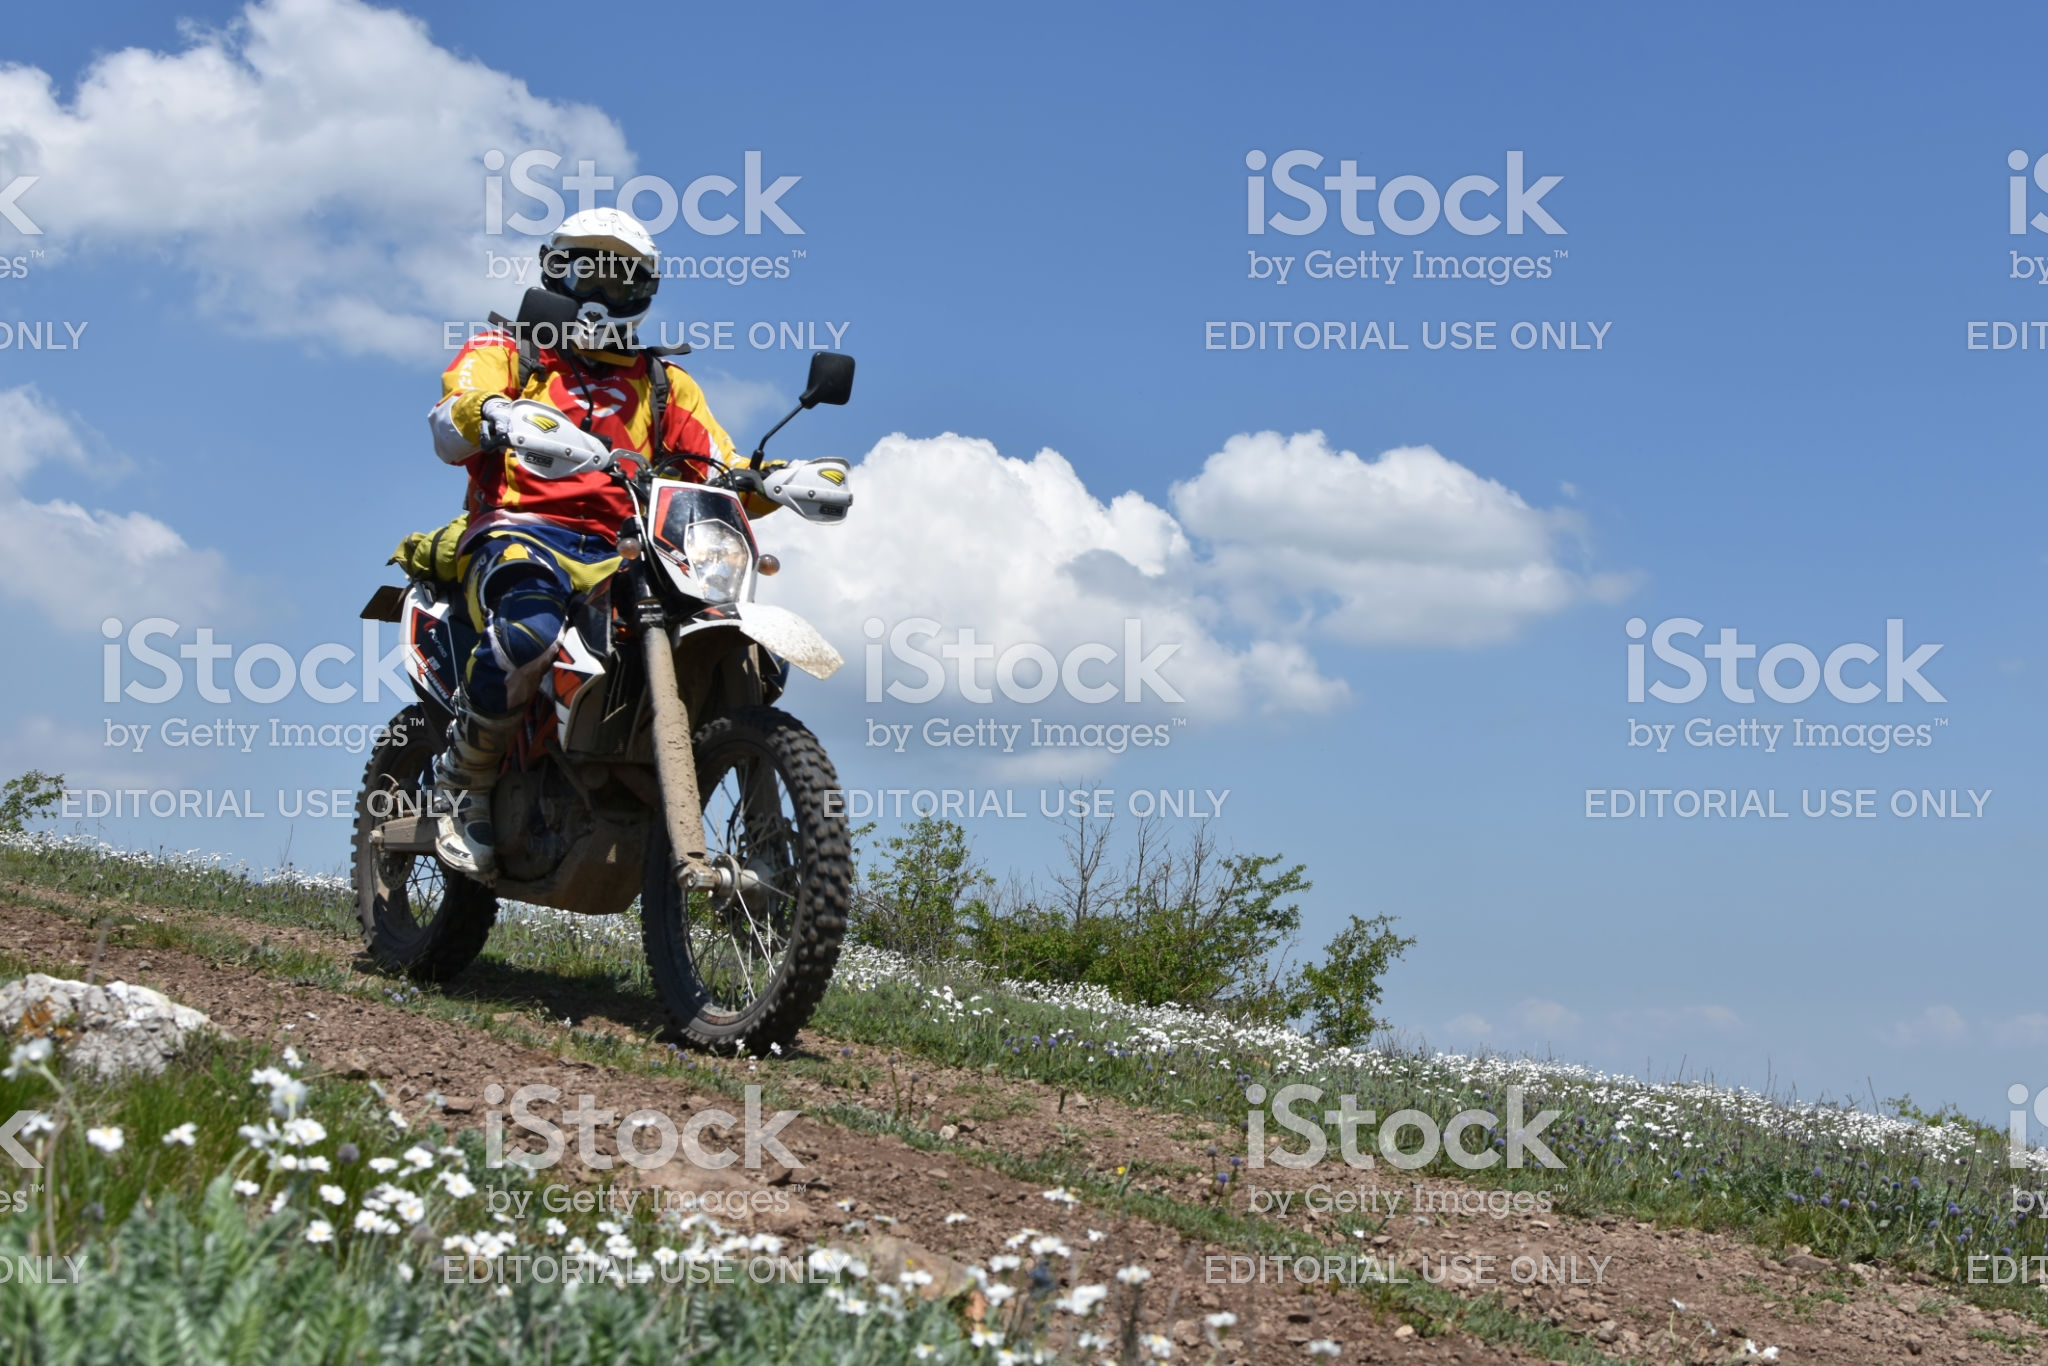helmet: (520, 192, 663, 308)
